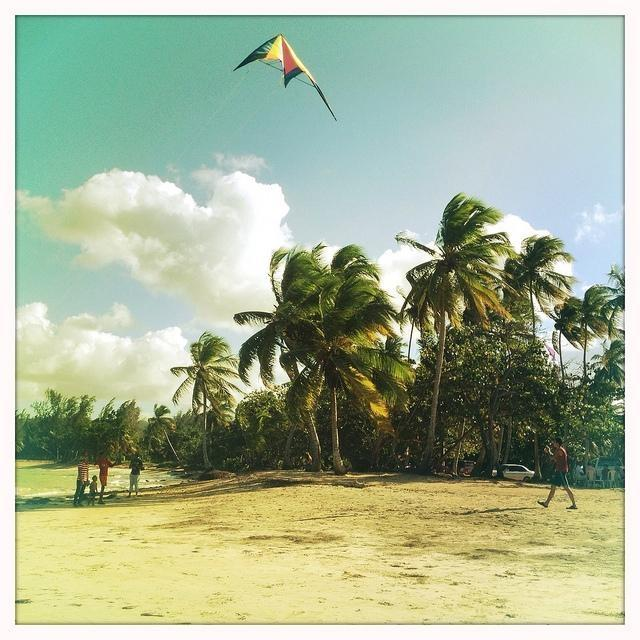car: (590, 458, 626, 480), (492, 464, 535, 482)
